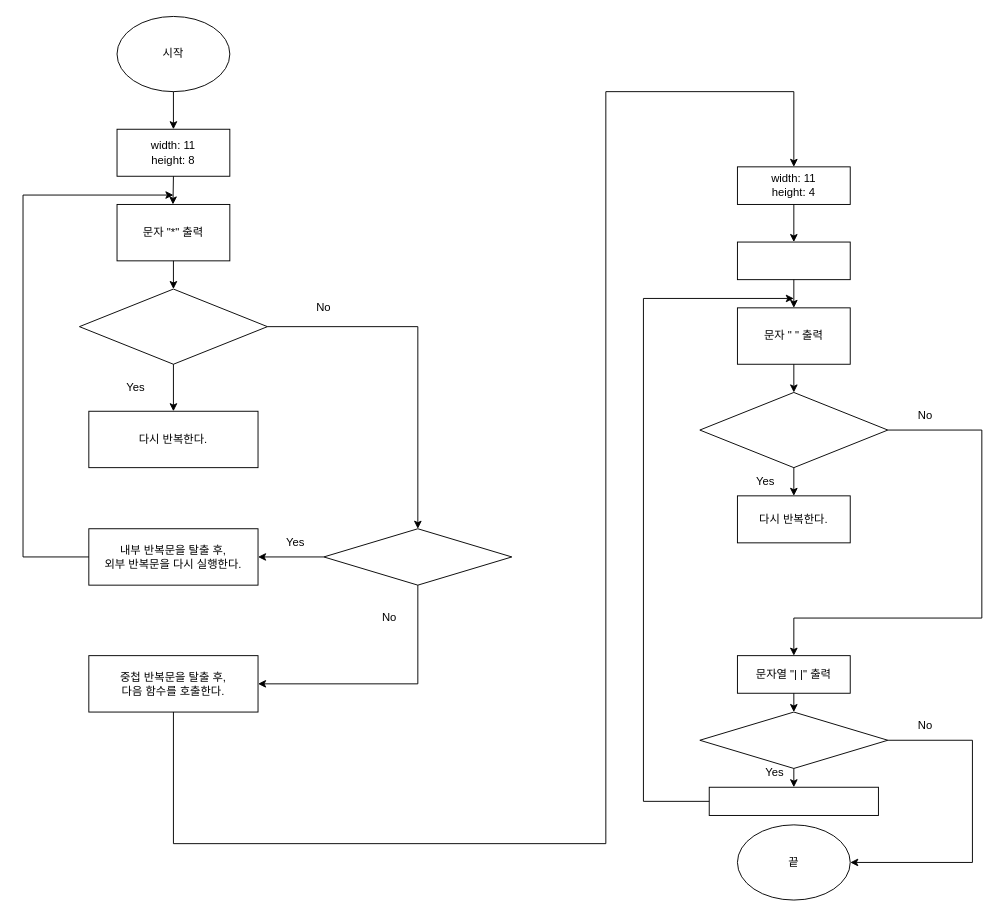
This 1006x917 diagram has some shape labels left out. The shapes that lost their labels are listed below. From the top down, each one's centre as x and y in pixels, then its label:
the point at 793,260: space 상수에 5 저장
the point at 172,326: 내부 반복문의 실행횟수가 11보다 작은가?
the point at 793,430: 내부 반복문의 실행횟수가 5보다 작은가?
the point at 417,556: 외부반복문의 실행횟수가 8보다 작은가?
the point at 793,739: 외부 반복문의 실행횟수가 4보다 작은가?
the point at 793,800: 외부 반복문을 다시 실행한다.
